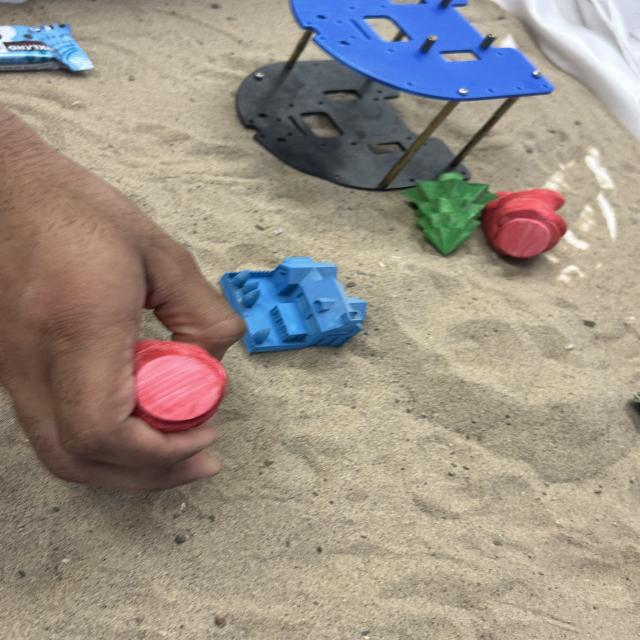fire: (130, 337, 228, 422), (480, 188, 567, 260)
house: (218, 256, 368, 354)
tree: (401, 171, 498, 256)
